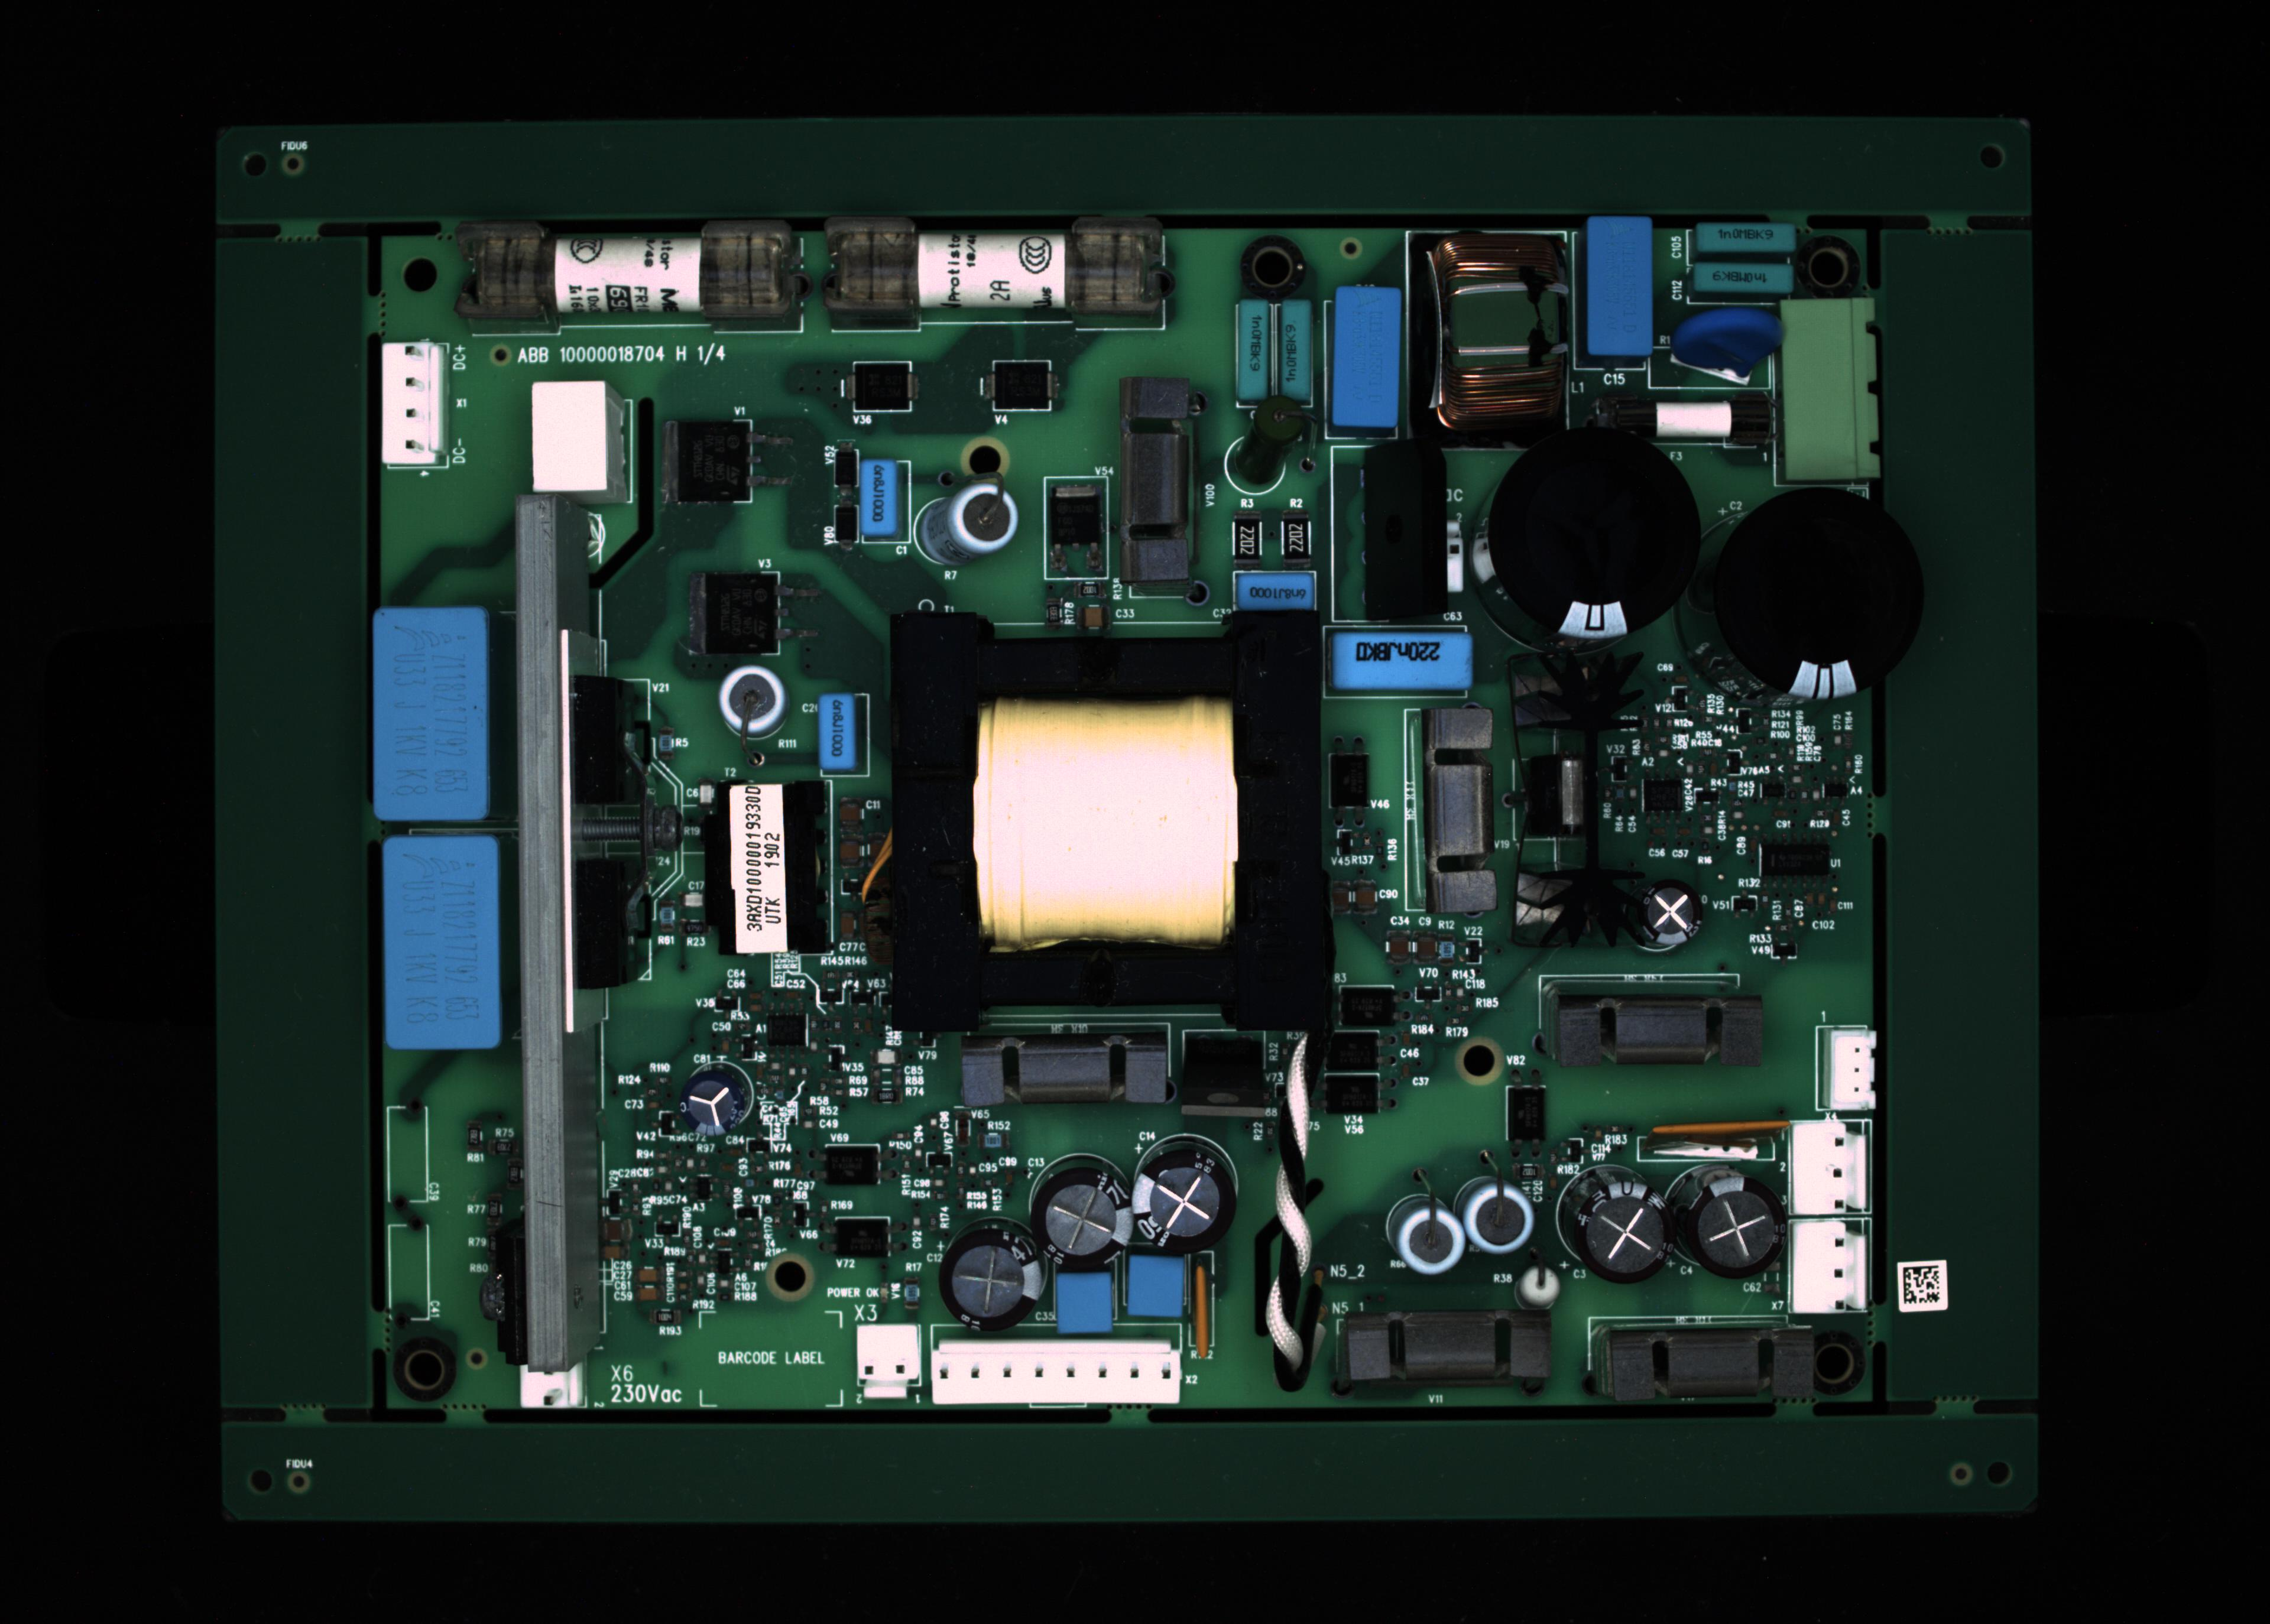10_p: (1648, 346, 1772, 394)
11_q: (1779, 302, 1880, 489)
12_r: (1591, 387, 1776, 455)
13_s: (380, 337, 445, 466)
14_t: (529, 380, 631, 494)
15_e: (862, 460, 895, 534)
16_k: (944, 482, 1018, 555)
17_u: (1127, 385, 1206, 608)
18_v: (1234, 569, 1317, 615)
19_w: (1333, 629, 1470, 685)
1_a: (455, 216, 807, 336)
20_f: (1444, 517, 1465, 594)
21_g: (1475, 429, 1709, 670)
22_g: (1714, 482, 1929, 703)
23_h: (380, 603, 489, 831)
24_h: (385, 833, 494, 1044)
25_f: (515, 1360, 591, 1411)
26_f: (849, 1323, 925, 1403)
27_x: (934, 1341, 1176, 1406)
28_i: (1132, 1135, 1245, 1255)
29_i: (1027, 1153, 1134, 1274)
2_a: (819, 216, 1175, 330)
30_i: (941, 1216, 1055, 1339)
31_j: (1050, 1267, 1120, 1339)
32_j: (1115, 1251, 1197, 1329)
33_e: (818, 692, 853, 770)
34_k: (1373, 1181, 1465, 1281)
35_k: (1456, 1178, 1542, 1271)
36_i: (1570, 1181, 1679, 1297)
37_i: (1663, 1160, 1786, 1290)
38_l: (1342, 1318, 1560, 1387)
39_l: (1581, 1316, 1818, 1404)
3_b: (1234, 295, 1270, 410)
40_l: (1542, 1000, 1771, 1069)
41_y: (1407, 678, 1505, 919)
42_z: (1825, 1032, 1878, 1114)
43_m: (1792, 1120, 1867, 1209)
44_m: (1788, 1225, 1867, 1316)
45_i: (679, 1065, 756, 1142)
46_n: (1338, 982, 1398, 1028)
47_n: (823, 1142, 883, 1188)
48_n: (830, 1218, 895, 1260)
49_aa: (761, 1011, 812, 1051)
4_b: (1280, 299, 1317, 410)
50_n: (1321, 1030, 1391, 1070)
51_n: (1321, 1070, 1382, 1120)
52_ab: (1331, 749, 1371, 803)
53_ac: (1656, 1130, 1790, 1165)
54_ad: (1194, 1253, 1222, 1364)
55_l: (958, 1037, 1175, 1118)
56_ae: (1176, 1025, 1270, 1111)
57_af: (1509, 647, 1635, 951)
58_i: (1630, 884, 1706, 958)
59_o: (992, 362, 1053, 411)
5_c: (1335, 281, 1400, 424)
60_o: (855, 360, 913, 413)
6_6: (1405, 232, 1572, 452)
7_c: (1590, 220, 1648, 357)
8_d: (1686, 227, 1792, 260)
9_d: (1695, 262, 1793, 290)
